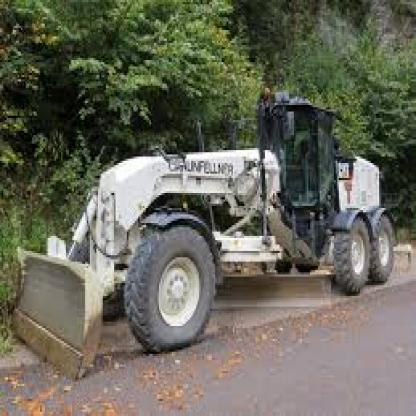bull_dozer/loader/grader: (13, 88, 395, 367)
